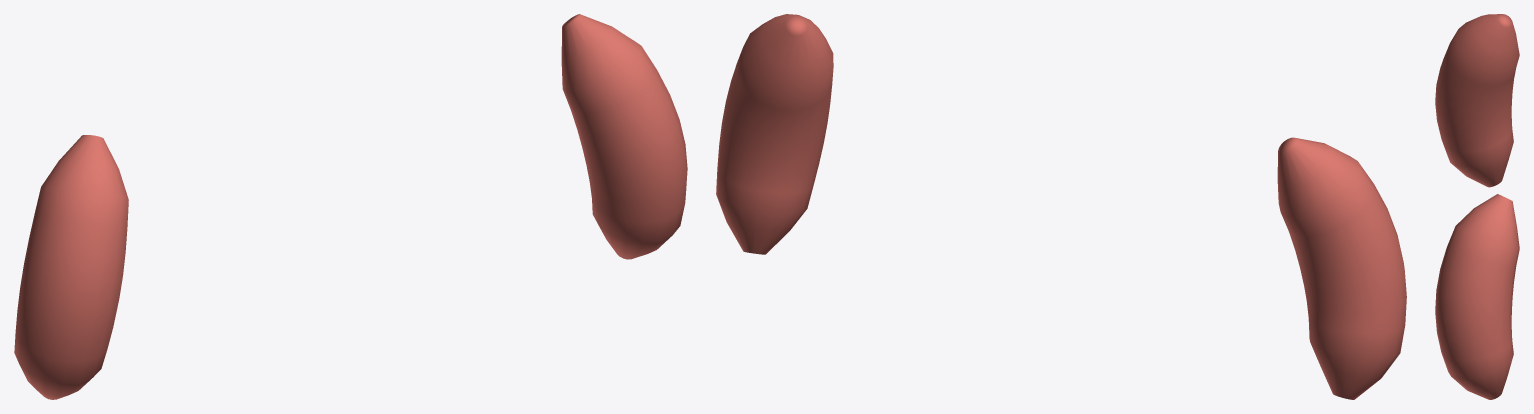
The model's file is biceps_brachii.glb.
3 renders of one model, left to right at view 1: azimuth 30°, elevation 25°; view 2: azimuth 150°, elevation 25°; view 3: azimuth 270°, elevation 25°, orthographic. The views are drawn at different scales.
Parts seen in each view (by area): view 1: muscle_biceps_brachii_l, muscle_biceps_brachii_r; view 2: muscle_biceps_brachii_l, muscle_biceps_brachii_r; view 3: muscle_biceps_brachii_r, muscle_biceps_brachii_l.
Boxes of the visible parts, bbox=[...] form: muscle_biceps_brachii_l: bbox=[14, 135, 128, 399]; muscle_biceps_brachii_r: bbox=[561, 14, 687, 259]; muscle_biceps_brachii_l: bbox=[1277, 137, 1406, 399]; muscle_biceps_brachii_r: bbox=[716, 14, 833, 254]; muscle_biceps_brachii_r: bbox=[1435, 194, 1519, 399]; muscle_biceps_brachii_l: bbox=[1435, 14, 1519, 187].
Bounding box in the file's own units: 0.5508 × 0.1979 × 0.081.
